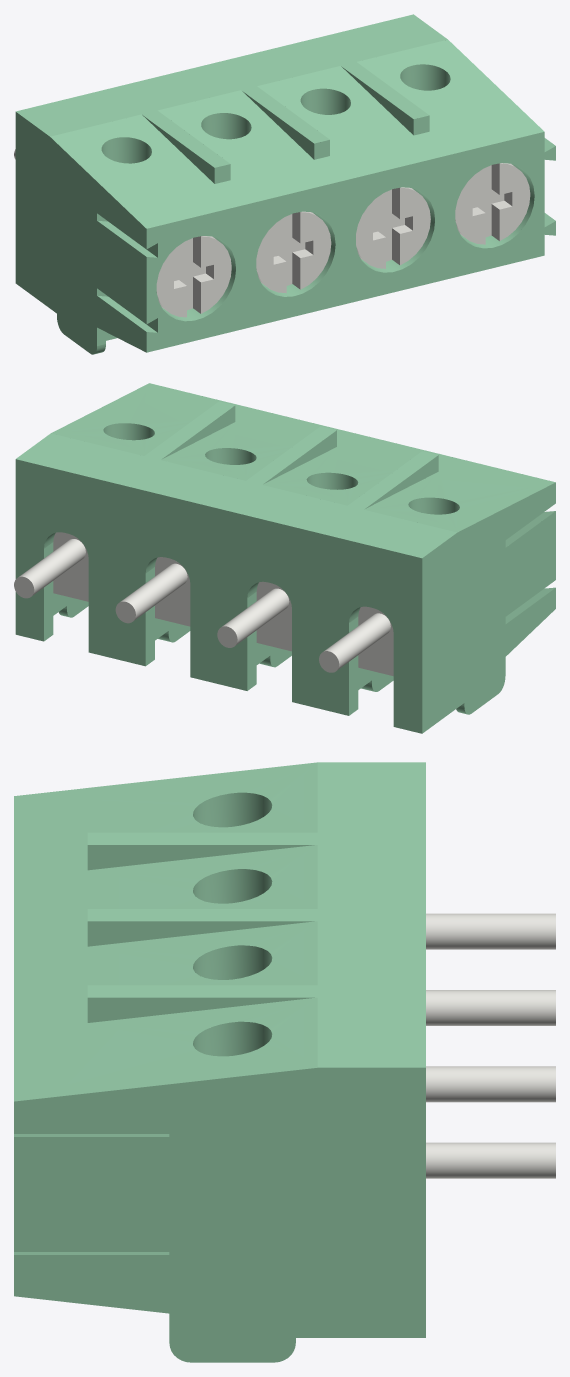
The model's file is TerminalBlock_Phoenix_PT-1,5-4-5.0-H_1x04_P5.00mm_Horizontal.glb.
3 views of the same model, one above another, from view 1: azimuth 30°, elevation 25°; view 2: azimuth 150°, elevation 25°; view 3: azimuth 270°, elevation 25° (orthographic). The views are drawn at different scales.
Parts seen in each view (by area): view 1: Shape_IndexedFaceSet.104, Shape_IndexedFaceSet.097, Shape_IndexedFaceSet.032, Shape_IndexedFaceSet.044, Shape_IndexedFaceSet.181, Shape_IndexedFaceSet.195, Shape_IndexedFaceSet.174, Shape_IndexedFaceSet.188, Shape_IndexedFaceSet.199, Shape_IndexedFaceSet.185, Shape_IndexedFaceSet.192, Shape_IndexedFaceSet.178 (+15 smaller); view 2: Shape_IndexedFaceSet.012, Shape_IndexedFaceSet.104, Shape_IndexedFaceSet.032, Shape_IndexedFaceSet.044, Shape_IndexedFaceSet.124, Shape_IndexedFaceSet.156, Shape_IndexedFaceSet.155, Shape_IndexedFaceSet.111, Shape_IndexedFaceSet.123, Shape_IndexedFaceSet.035, Shape_IndexedFaceSet.122, Shape_IndexedFaceSet.067 (+15 smaller); view 3: Shape_IndexedFaceSet.030, Shape_IndexedFaceSet.104, Shape_IndexedFaceSet.044, Shape_IndexedFaceSet.111, Shape_IndexedFaceSet.155, Shape_IndexedFaceSet.156, Shape_IndexedFaceSet.124, Shape_IndexedFaceSet.145, Shape_IndexedFaceSet.144, Shape_IndexedFaceSet.121, Shape_IndexedFaceSet.118, Shape_IndexedFaceSet.115 (+4 smaller).
Part boxes in pixels (x1,y1,x2,y2): Shape_IndexedFaceSet.104: [50, 39, 544, 228]; Shape_IndexedFaceSet.097: [146, 132, 555, 352]; Shape_IndexedFaceSet.032: [15, 112, 146, 354]; Shape_IndexedFaceSet.044: [16, 14, 447, 167]; Shape_IndexedFaceSet.181: [499, 163, 530, 240]; Shape_IndexedFaceSet.195: [300, 212, 331, 289]; Shape_IndexedFaceSet.174: [400, 187, 430, 265]; Shape_IndexedFaceSet.188: [201, 236, 231, 313]; Shape_IndexedFaceSet.199: [256, 216, 286, 293]; Shape_IndexedFaceSet.185: [455, 168, 485, 244]; Shape_IndexedFaceSet.192: [156, 240, 186, 317]; Shape_IndexedFaceSet.178: [356, 192, 385, 268]; Shape_IndexedFaceSet.012: [15, 459, 422, 733]; Shape_IndexedFaceSet.104: [51, 383, 555, 532]; Shape_IndexedFaceSet.032: [422, 482, 555, 733]; Shape_IndexedFaceSet.044: [16, 401, 456, 558]; Shape_IndexedFaceSet.124: [222, 588, 289, 645]; Shape_IndexedFaceSet.156: [120, 563, 187, 620]; Shape_IndexedFaceSet.155: [18, 539, 85, 595]; Shape_IndexedFaceSet.111: [324, 613, 390, 670]; Shape_IndexedFaceSet.123: [155, 557, 190, 626]; Shape_IndexedFaceSet.035: [358, 606, 393, 676]; Shape_IndexedFaceSet.122: [53, 532, 88, 601]; Shape_IndexedFaceSet.067: [256, 581, 291, 651]; Shape_IndexedFaceSet.030: [14, 1067, 425, 1362]; Shape_IndexedFaceSet.104: [14, 762, 317, 1101]; Shape_IndexedFaceSet.044: [87, 762, 425, 1067]; Shape_IndexedFaceSet.111: [426, 913, 555, 949]; Shape_IndexedFaceSet.155: [426, 1142, 555, 1178]; Shape_IndexedFaceSet.156: [426, 1066, 555, 1102]; Shape_IndexedFaceSet.124: [426, 990, 555, 1025]; Shape_IndexedFaceSet.145: [14, 1137, 169, 1160]; Shape_IndexedFaceSet.144: [14, 1255, 169, 1277]; Shape_IndexedFaceSet.121: [87, 997, 314, 1022]; Shape_IndexedFaceSet.118: [87, 921, 314, 946]; Shape_IndexedFaceSet.115: [87, 845, 314, 870].
Bounding box in the file's own units: 8.1 × 3.54 × 5.91.
